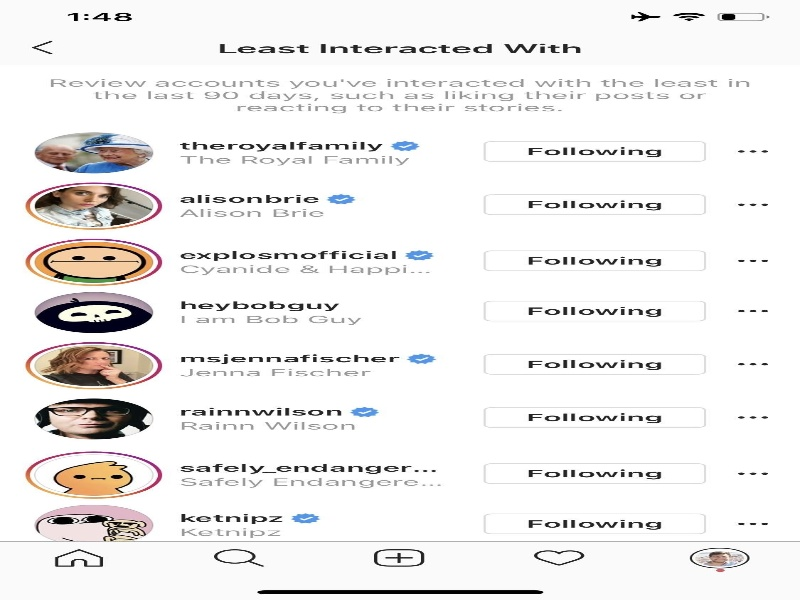follow: (476, 132, 716, 171), (481, 183, 715, 221), (478, 454, 713, 489), (480, 244, 710, 279), (479, 295, 714, 329), (478, 506, 715, 539), (478, 349, 712, 382), (480, 400, 712, 432)
